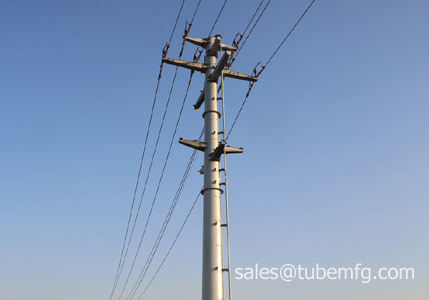utility_pole: (151, 15, 269, 167)
